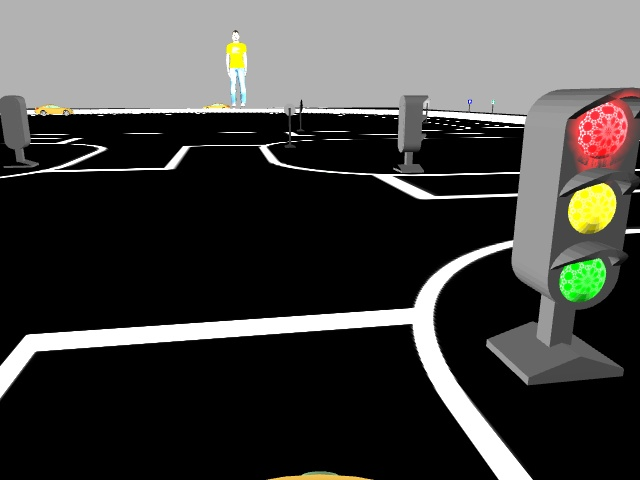TrafficLight: (509, 84, 624, 311)
